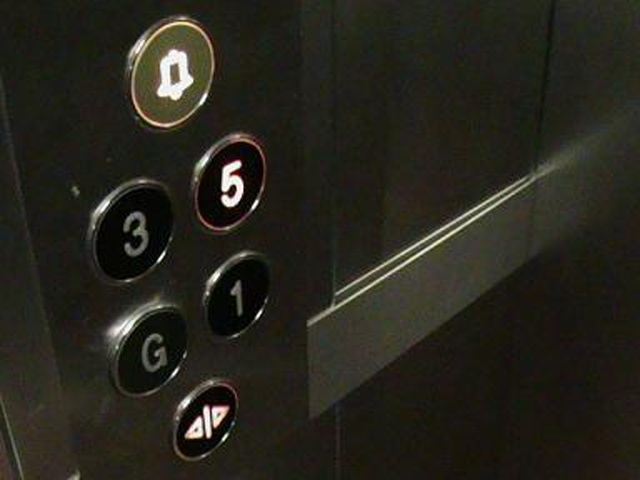1: (199, 248, 274, 348)
3: (86, 174, 178, 285)
5: (192, 131, 270, 232)
G: (106, 299, 191, 400)
alarm: (123, 13, 216, 133)
open: (169, 379, 241, 463)
